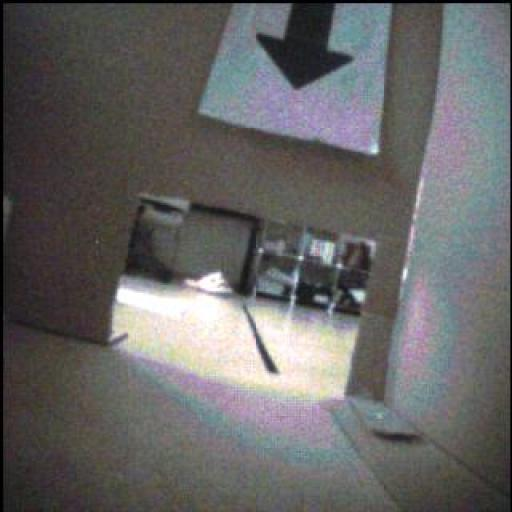arrow: (257, 4, 353, 89)
